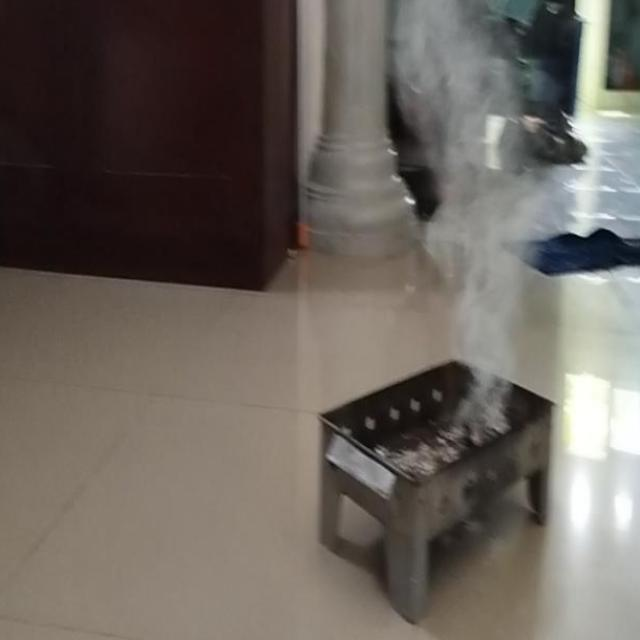fire: (419, 180, 556, 393), (396, 0, 511, 179)
